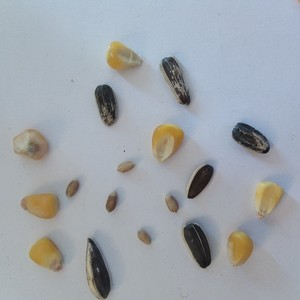girasol: (157, 53, 195, 107), (84, 234, 114, 299), (179, 219, 213, 271), (226, 119, 271, 156), (90, 82, 119, 129), (185, 163, 217, 199)
maiz: (25, 232, 69, 278), (147, 121, 187, 166), (9, 125, 54, 163), (103, 37, 144, 74), (250, 179, 286, 220), (225, 227, 259, 269), (18, 190, 62, 221)
trigo: (100, 190, 123, 213), (161, 191, 181, 215), (134, 226, 154, 247), (115, 158, 137, 175), (66, 179, 79, 199)
